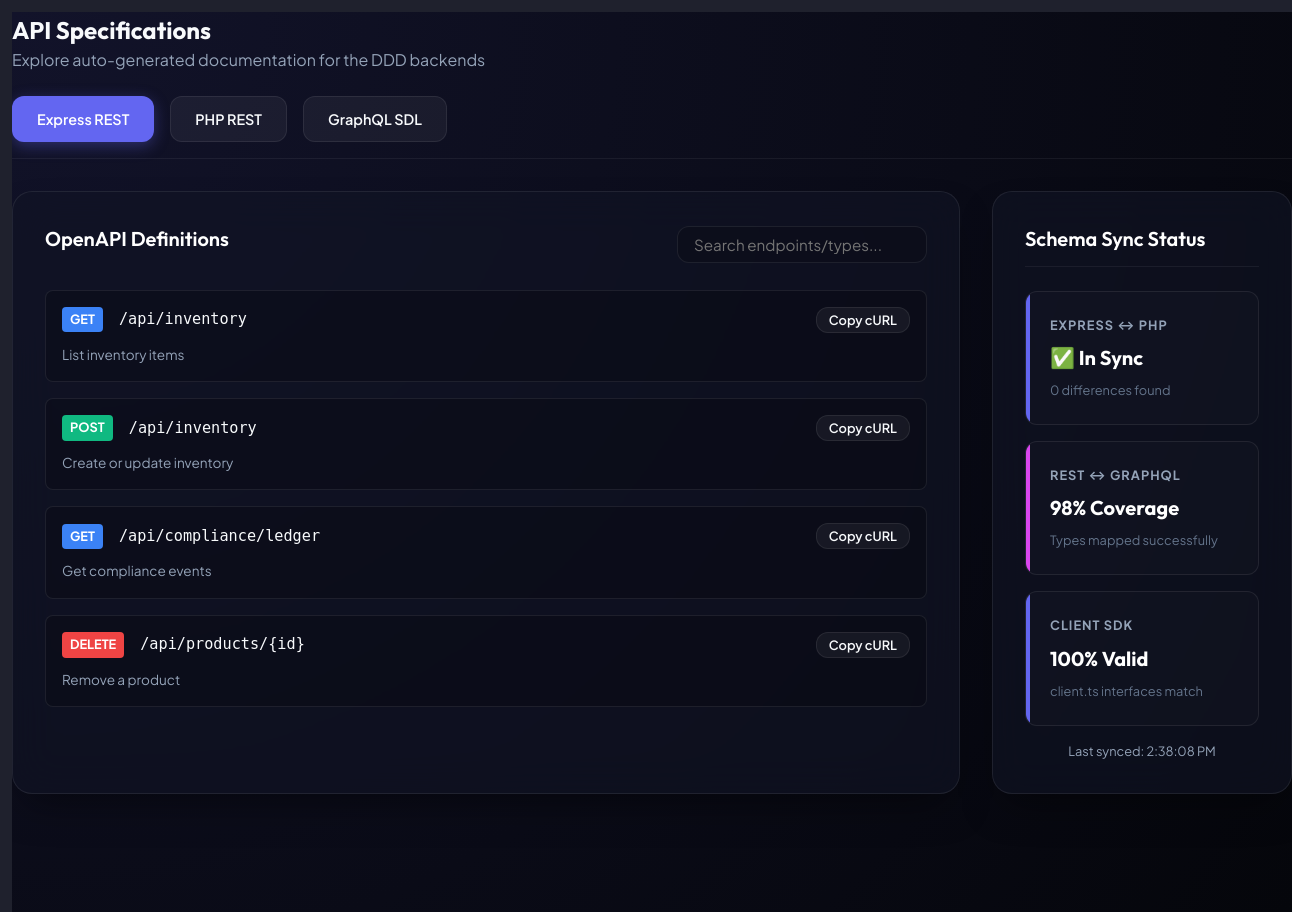
Scenario: ApiSpecViewerPanel › switches to GraphQL SDL tab and shows queries/types
What coordinates should you click on to do the following:
click the button "GraphQL SDL"
I would click on:
 (375, 119)
Its box is [303,96,447,142].
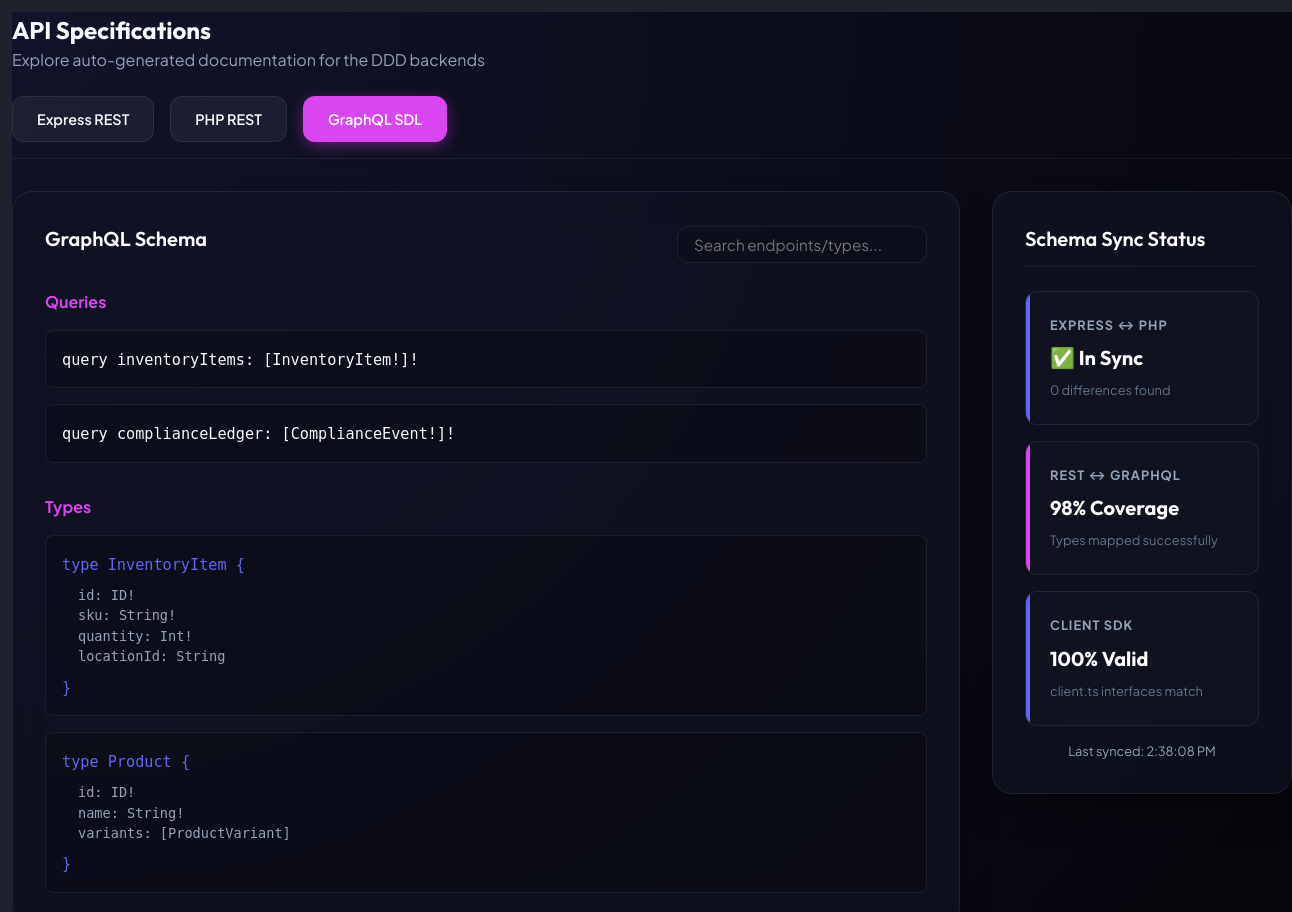
Check: the heading "GraphQL Schema" is shown, box [45,226,207,251]
